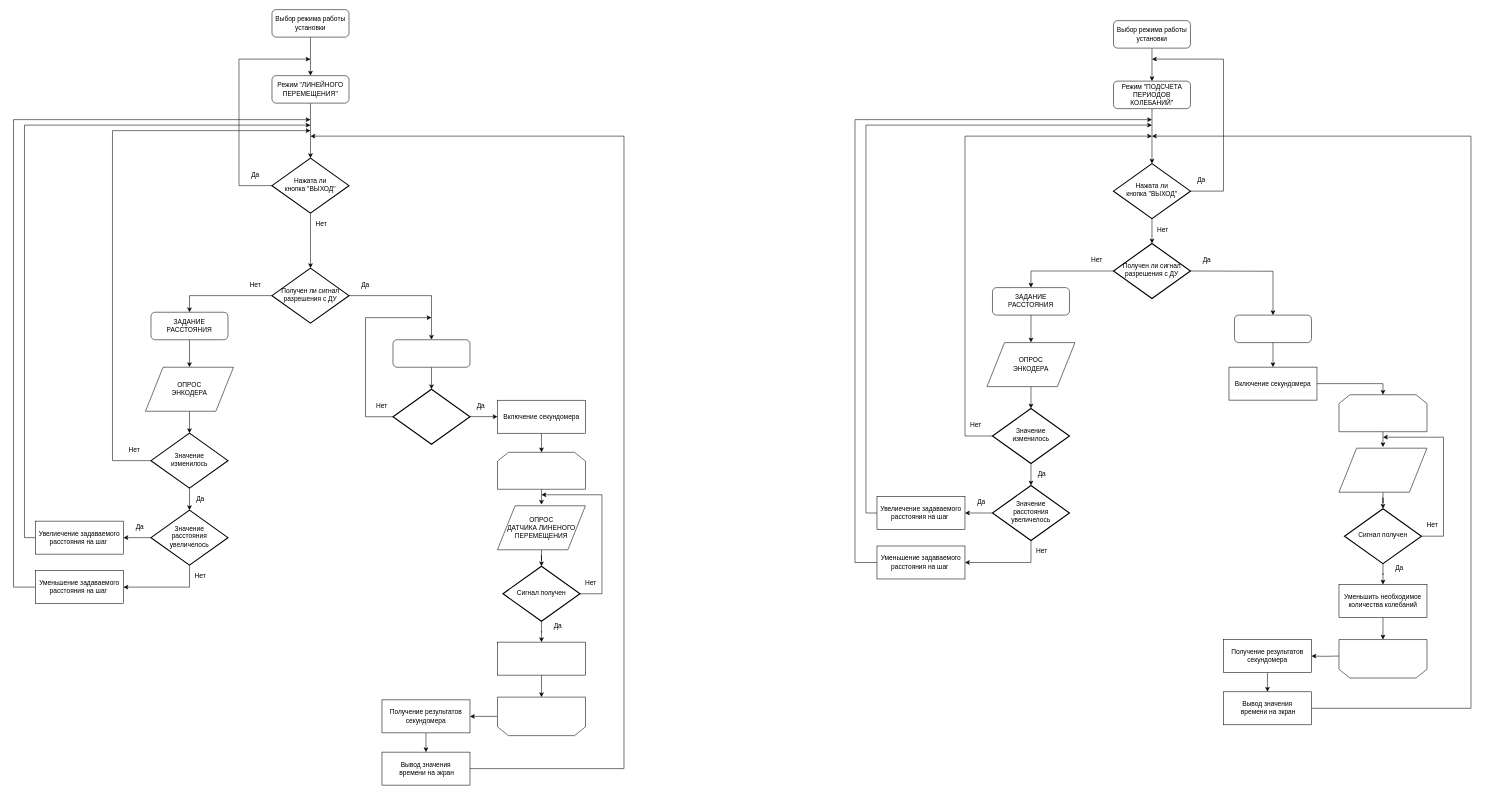
Image size: 1485x795. Some labels were removed from this diagram. Each missing label, with the box of its shape:
Груз прошел ИК датчик: (392, 388, 470, 445)
Необходимое количество колебаний равно нулю: (1338, 639, 1427, 678)
Необходимое расстояние равно нулю: (497, 697, 585, 736)
ОПРОС ДАТЧИКА ПОДСЧЕТА КОЛЕБАНИЙ: (1338, 448, 1427, 492)
Режим подсчета импульсов: (392, 339, 470, 367)
Режим подсчета колебаний: (1234, 315, 1311, 343)
Уменьшить необходимое расстояние на еденицу умноженную на коэффициент: (497, 642, 585, 675)
Цикл ожидающий прекращения колебательний: (1338, 394, 1427, 432)
Цикл ожидающий прекращения линейного перемещения: (497, 452, 585, 489)
